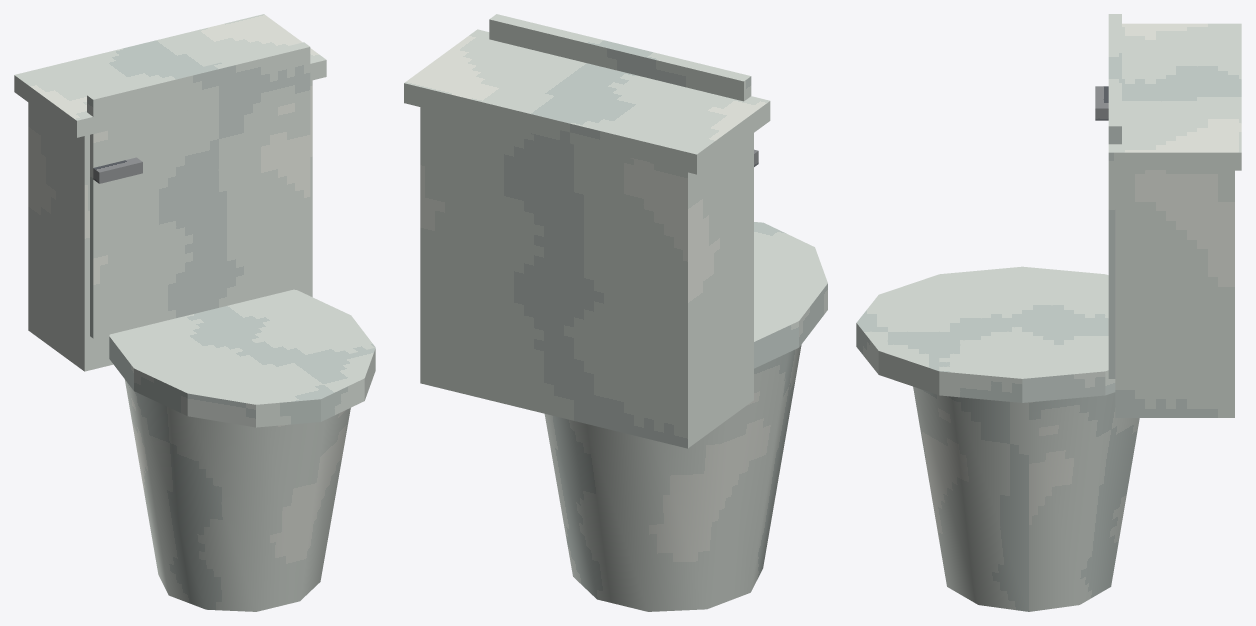
Rendered from RES_Toilet.obj.
3 views of the same model, side by side, from view 1: azimuth 30°, elevation 25°; view 2: azimuth 150°, elevation 25°; view 3: azimuth 270°, elevation 25° (orthographic). The views are drawn at different scales.
Visible parts, largest first — view 1: RES_Toilet_Mesh_M_Res_Porcelain, INT_Lid_Toilet_M_Res_Porcelain, RES_Toilet_Mesh_M_Furn_MetalBrushed; view 2: RES_Toilet_Mesh_M_Res_Porcelain, INT_Lid_Toilet_M_Res_Porcelain; view 3: RES_Toilet_Mesh_M_Res_Porcelain, INT_Lid_Toilet_M_Res_Porcelain.
Part boxes in pixels (box(x1,y1,x2,y2)): RES_Toilet_Mesh_M_Res_Porcelain: box(14, 14, 375, 611); INT_Lid_Toilet_M_Res_Porcelain: box(87, 42, 310, 338); RES_Toilet_Mesh_M_Furn_MetalBrushed: box(93, 157, 142, 183); RES_Toilet_Mesh_M_Res_Porcelain: box(404, 29, 827, 611); INT_Lid_Toilet_M_Res_Porcelain: box(489, 14, 751, 101); RES_Toilet_Mesh_M_Res_Porcelain: box(856, 23, 1241, 611); INT_Lid_Toilet_M_Res_Porcelain: box(1108, 14, 1121, 378).
Size of the model in its own units: 0.46 by 0.84 by 0.58.
Materials: 2 (2 with a texture image).
